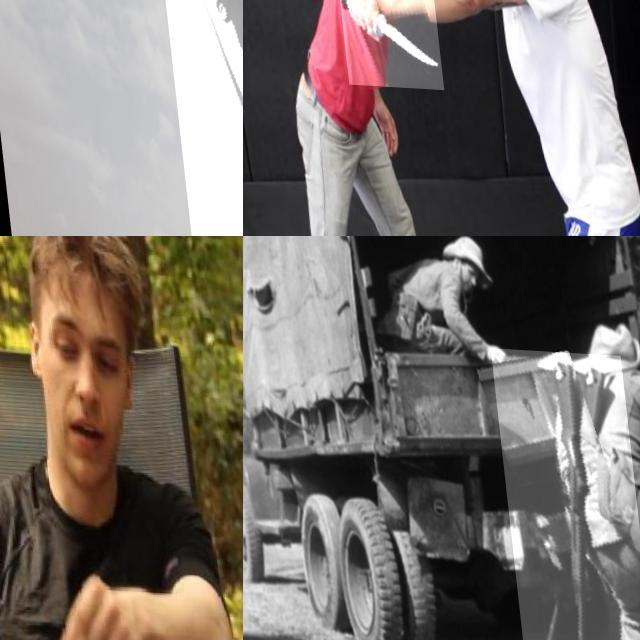-: (332, 0, 437, 86)
gun-knife-thesis - v11 Yolov5 augmented: (485, 343, 640, 640), (143, 0, 243, 236)
